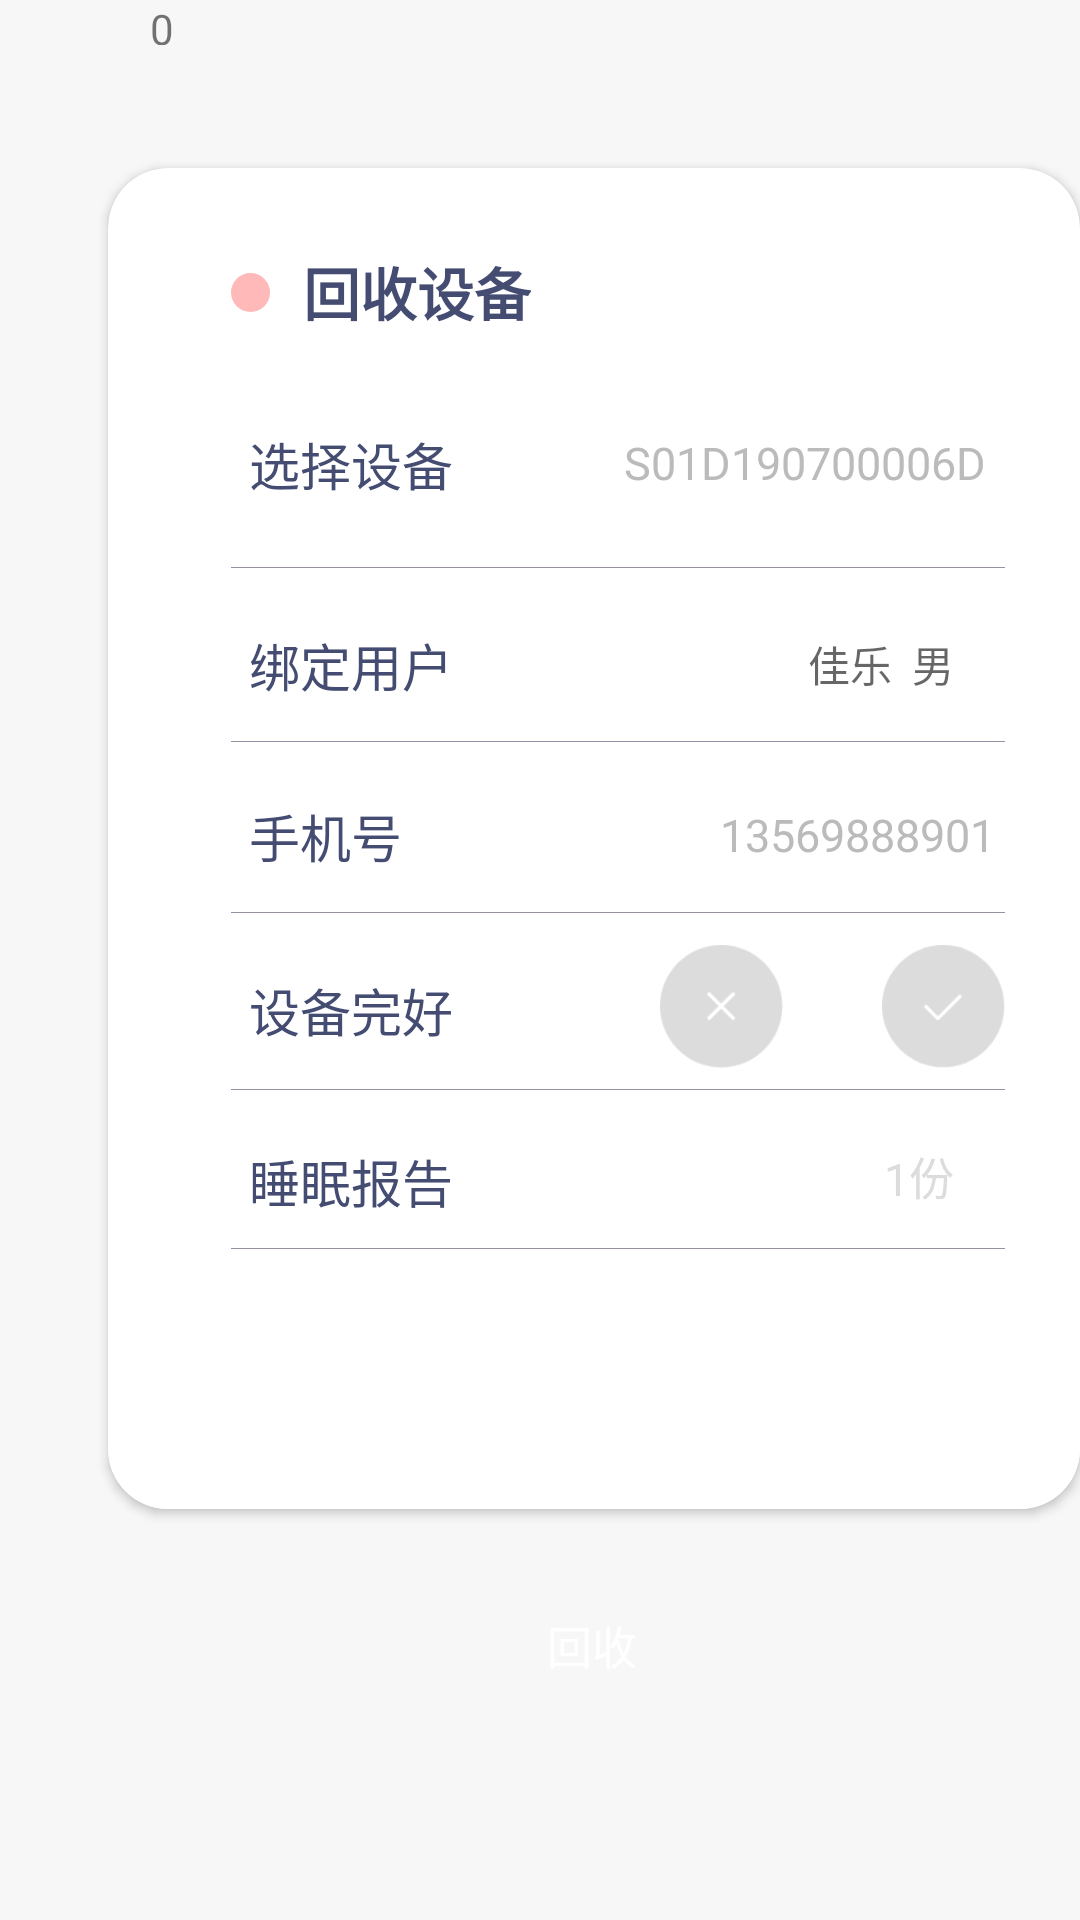

Named icons in this screenshot (1080x1920) and their bounding boxes, [x1, y1, x2, y2]:
device false state: [660, 945, 782, 1067]
device true state: [882, 945, 1004, 1067]
